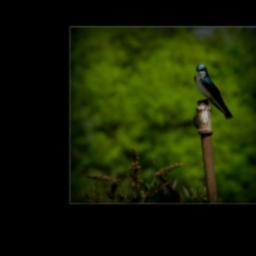Swallow: (194, 63, 234, 121)
